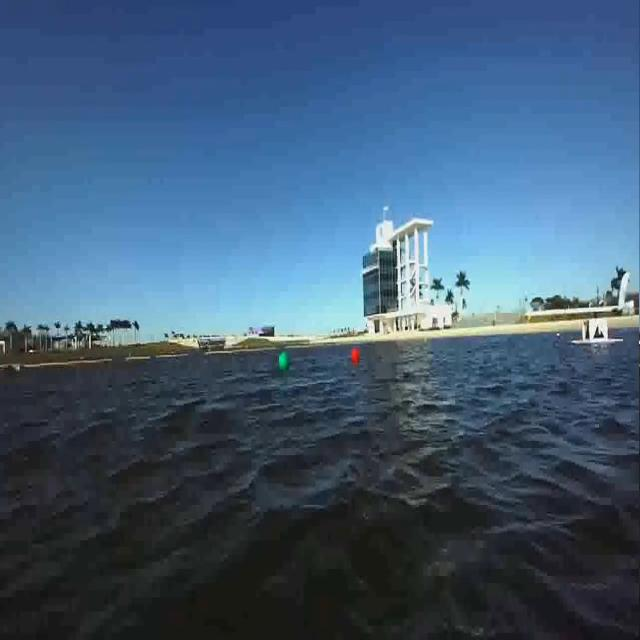green-buoy: (278, 352, 290, 371)
red-buoy: (352, 349, 359, 362)
